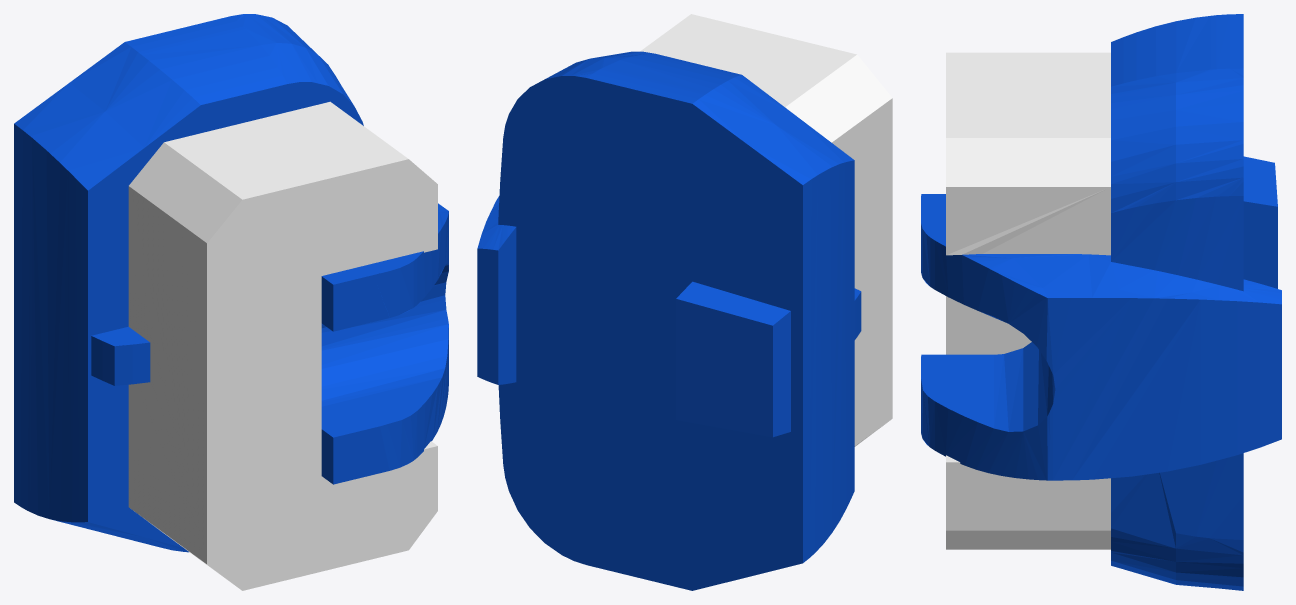
File: BODY_mesh.dae
3 renders of one model, left to right at view 1: azimuth 30°, elevation 25°; view 2: azimuth 150°, elevation 25°; view 3: azimuth 270°, elevation 25°, orthographic. The views are drawn at different scales.
Visible parts, largest first — view 1: BODY (×2); view 2: BODY (×2); view 3: BODY (×2).
Boxes of the visible parts, x1,y1,x2,y2 form: BODY (×2): (14,14,448,590); BODY (×2): (477,14,892,590); BODY (×2): (921,14,1281,590).
Bounding box in the file's own units: 0.2162 × 0.295 × 0.188.
